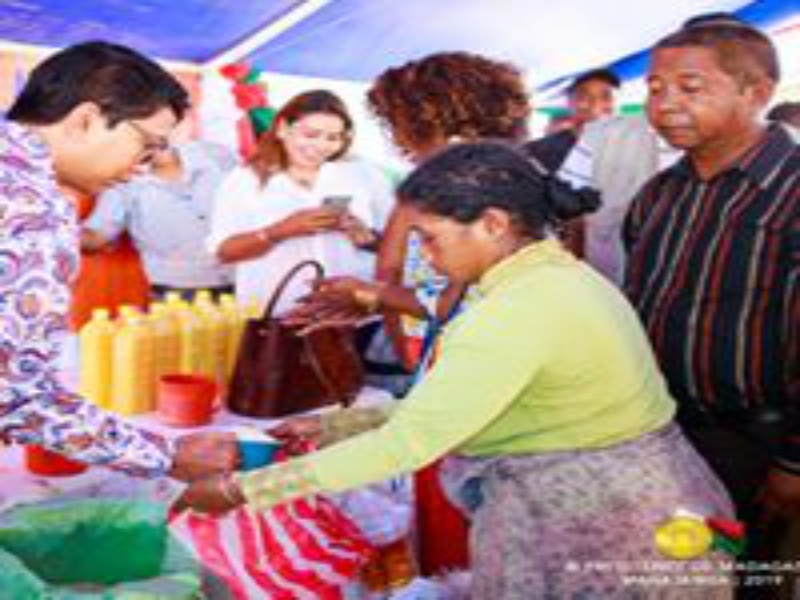TsisyArotava: (73, 40, 203, 220), (634, 16, 775, 167)
